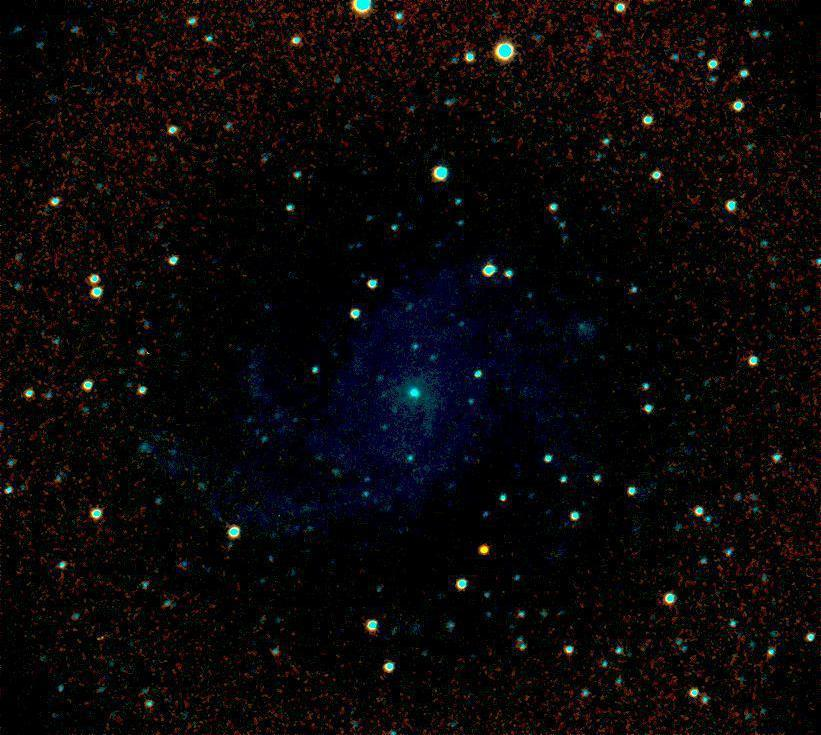star: (472, 535, 502, 565)
